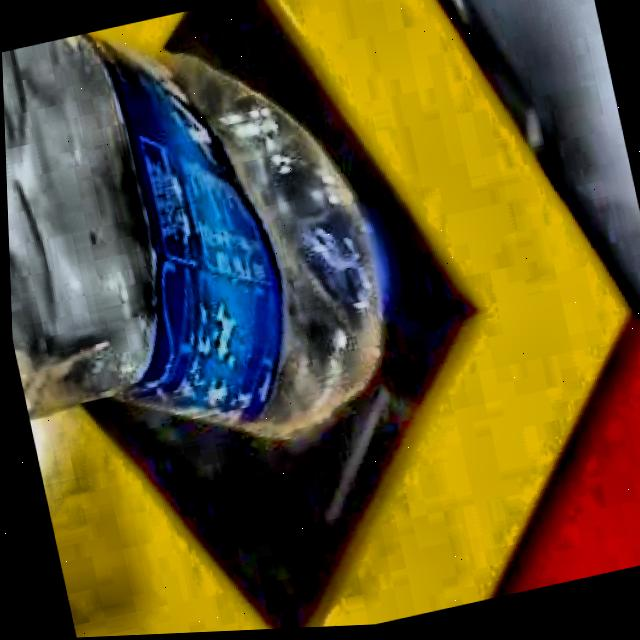plastic: (1, 33, 390, 442)
